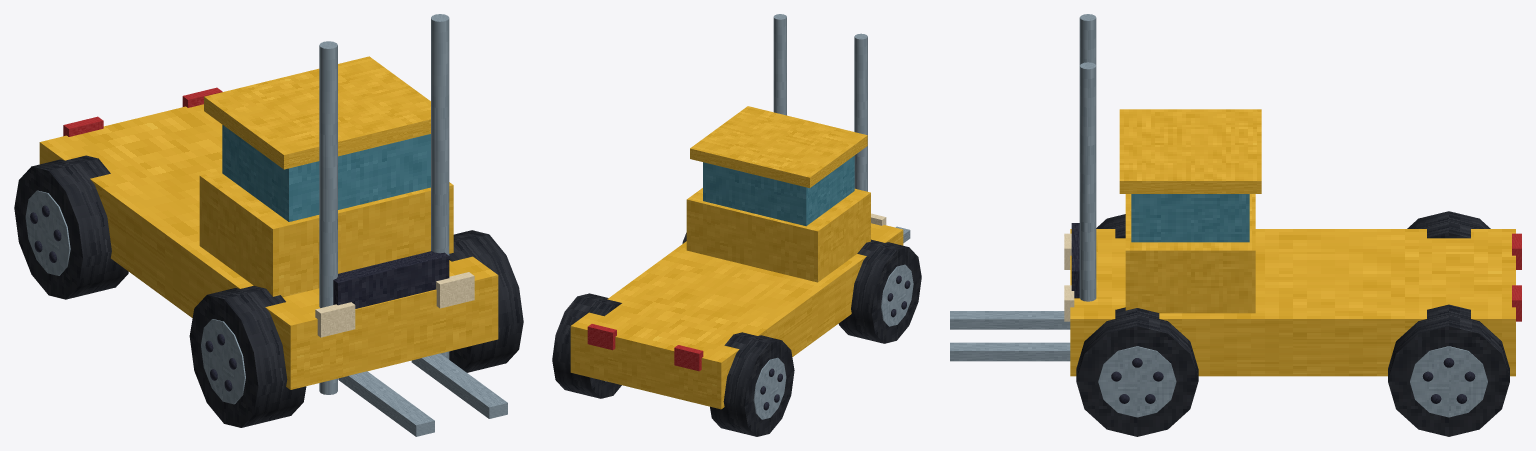
The model's file is construction-forklift.glb.
3 renders of one model, left to right at view 1: azimuth 30°, elevation 25°; view 2: azimuth 150°, elevation 25°; view 3: azimuth 270°, elevation 25°, orthographic. The views are drawn at different scales.
Visible parts, largest first — view 1: chassis, tire (×3), cab body, cab roof, cab windows, mast rail (×2), rim (×2), fork tine (×2), backrest, lamp (×3); view 2: chassis, tire (×3), cab body, cab roof, cab windows, mast rail (×2), rim (×2), lamp (×2); view 3: chassis, tire (×3), cab roof, cab body, rim (×2), cab windows, mast rail (×2), fork tine (×2), backrest.
Part boxes in pixels (box(x1,y1,x2,y2)): chassis: box(39, 104, 498, 389); tire (×3): box(14, 155, 523, 427); cab body: box(199, 170, 453, 297); cab roof: box(204, 56, 430, 169); cab windows: box(222, 125, 430, 221); mast rail (×2): box(319, 14, 449, 394); rim (×2): box(25, 190, 245, 404); fork tine (×2): box(338, 353, 507, 436); backrest: box(333, 251, 449, 308); lamp (×3): box(63, 116, 474, 337); chassis: box(570, 223, 903, 409); tire (×3): box(552, 239, 921, 436); cab body: box(686, 188, 870, 282); cab roof: box(690, 106, 867, 187); cab windows: box(703, 155, 854, 226); mast rail (×2): box(773, 14, 867, 191); rim (×2): box(753, 264, 913, 419); lamp (×2): box(587, 324, 703, 371); chassis: box(1070, 229, 1515, 376); tire (×3): box(1076, 211, 1509, 436); cab roof: box(1119, 109, 1261, 193); cab body: box(1125, 194, 1255, 313); rim (×2): box(1098, 346, 1487, 417); cab windows: box(1131, 194, 1249, 242); mast rail (×2): box(1079, 14, 1096, 301); fork tine (×2): box(950, 311, 1070, 361); backrest: box(1071, 223, 1079, 298).
Size of the model in its own units: 1.44 by 1.89 by 2.9.
Materials: 7 (7 with a texture image).
